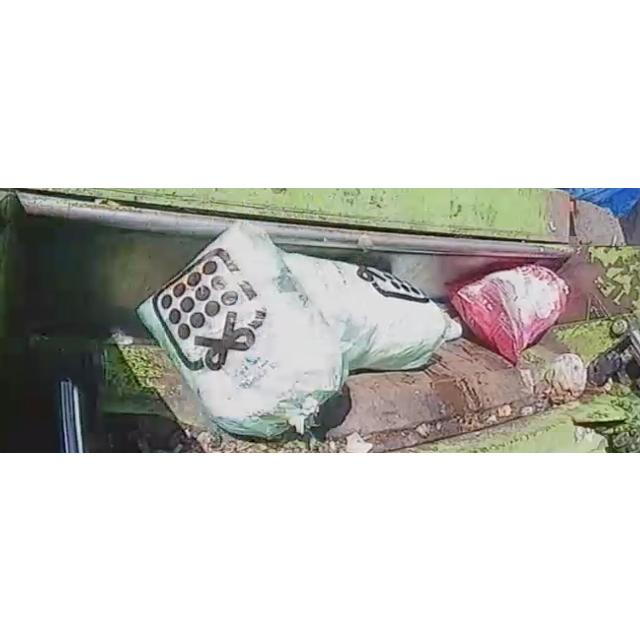general_trashbag: (138, 226, 348, 436), (284, 252, 462, 371)
other_trashbag: (451, 263, 569, 363)
